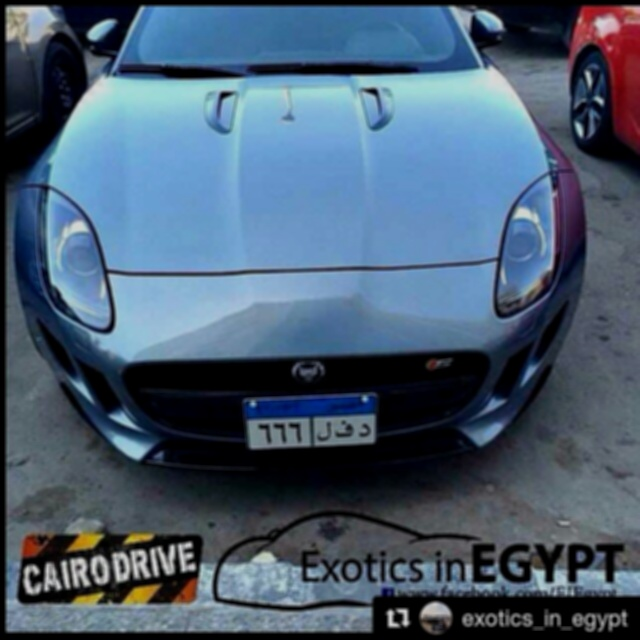License Plate: (241, 390, 382, 453)
